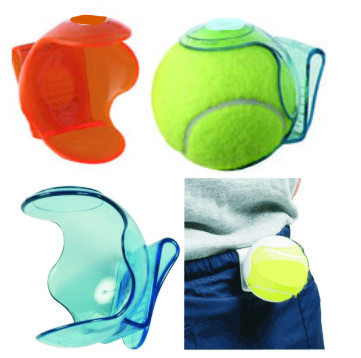tennis_ball: (149, 28, 299, 166), (245, 234, 308, 304)
